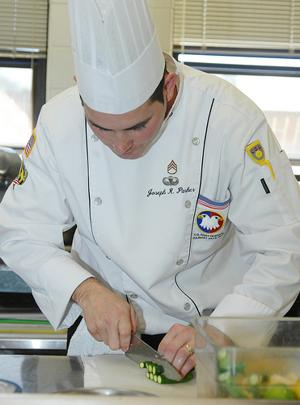person: (2, 2, 299, 378)
